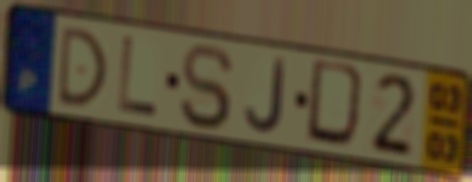2: (366, 70, 423, 160)
D: (303, 56, 372, 154), (54, 24, 110, 110)
J: (242, 56, 288, 137)
L: (115, 33, 161, 121)
S: (177, 41, 237, 134)
